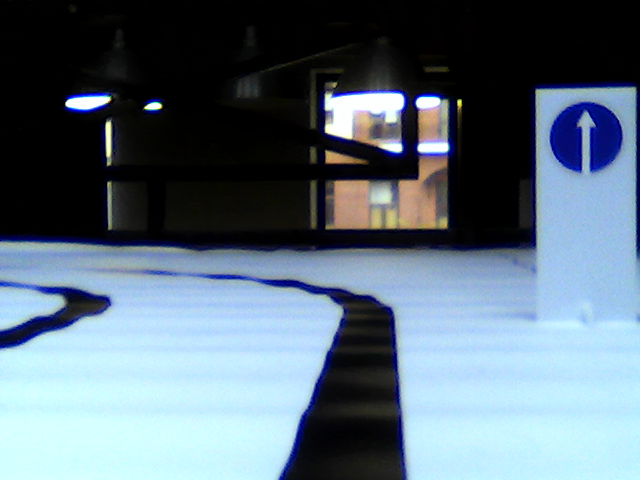forw: (549, 104, 624, 175)
